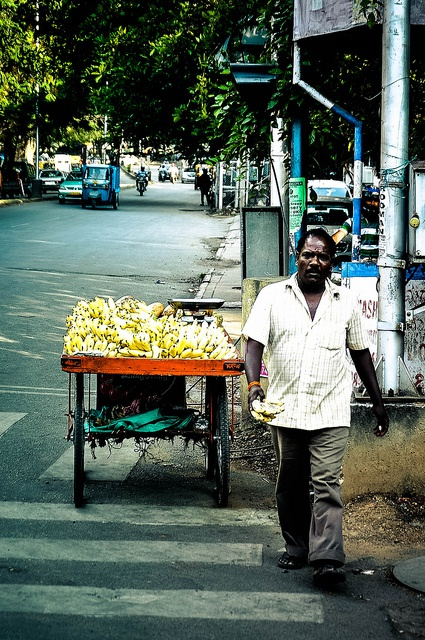non-vehicle: (135, 173, 148, 195), (169, 171, 178, 184), (161, 169, 166, 180)
